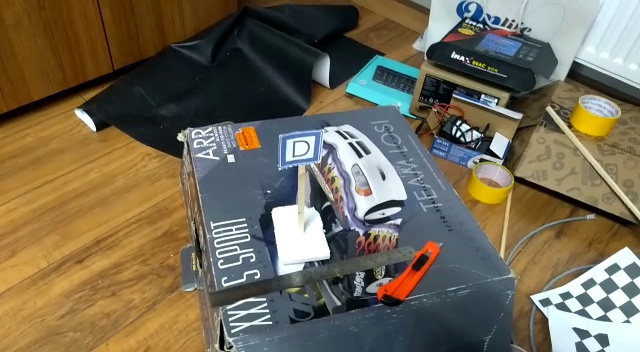durak: (275, 129, 324, 171)
